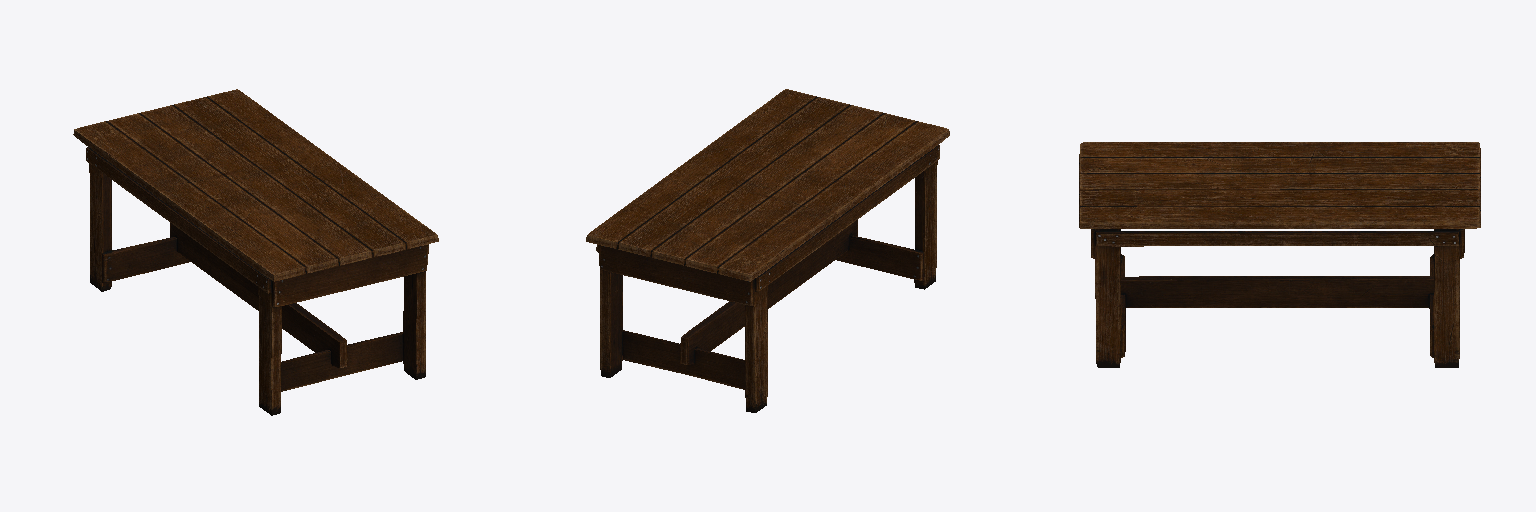
3 views of the same model, side by side, from view 1: azimuth 30°, elevation 25°; view 2: azimuth 150°, elevation 25°; view 3: azimuth 270°, elevation 25° (orthographic).
Parts seen in each view (by area): view 1: defaultMaterial; view 2: defaultMaterial; view 3: defaultMaterial.
Boxes of the visible parts, box(x1,y1,x2,y2) form: defaultMaterial: box(73, 89, 438, 415); defaultMaterial: box(586, 89, 949, 412); defaultMaterial: box(1079, 142, 1480, 367).
Size of the model in its own units: 115 by 98.01 by 241.
Materials: 1 (1 with a texture image).